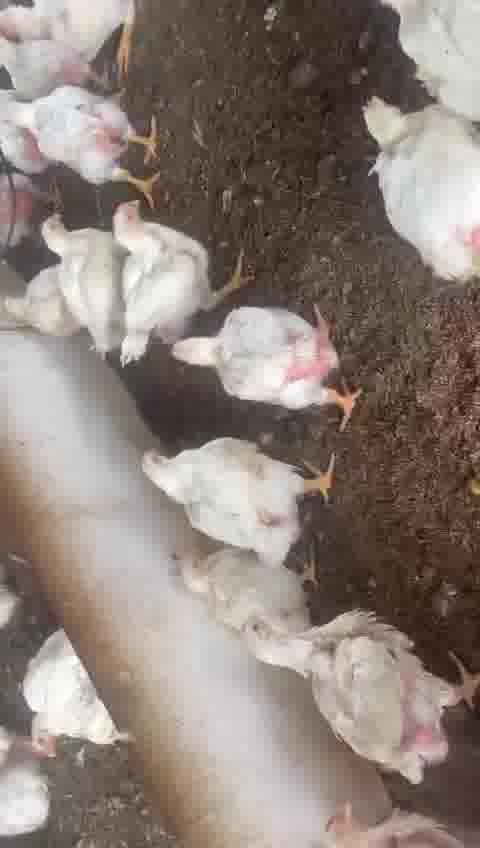AbNormal: (161, 539, 321, 634), (318, 778, 480, 848)
Normal: (244, 610, 480, 775), (129, 420, 346, 545), (352, 72, 480, 282), (163, 311, 378, 427), (103, 190, 215, 355), (4, 90, 176, 192), (0, 13, 143, 98), (45, 204, 122, 352)
